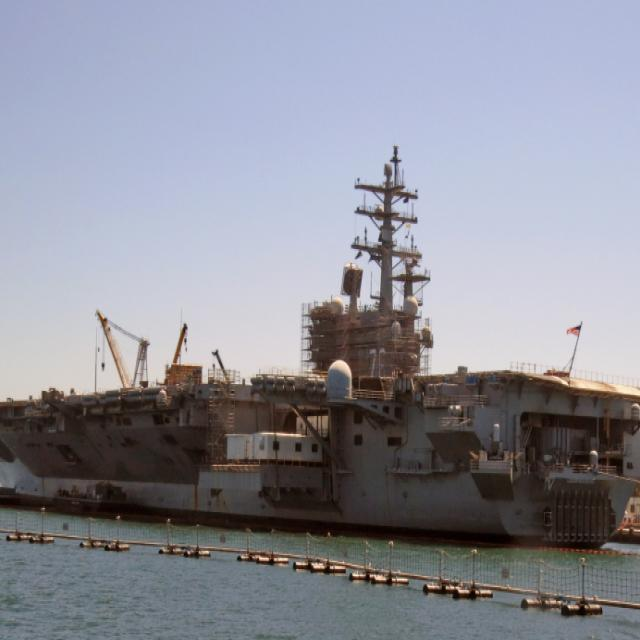Portanaves: (1, 136, 640, 553)
